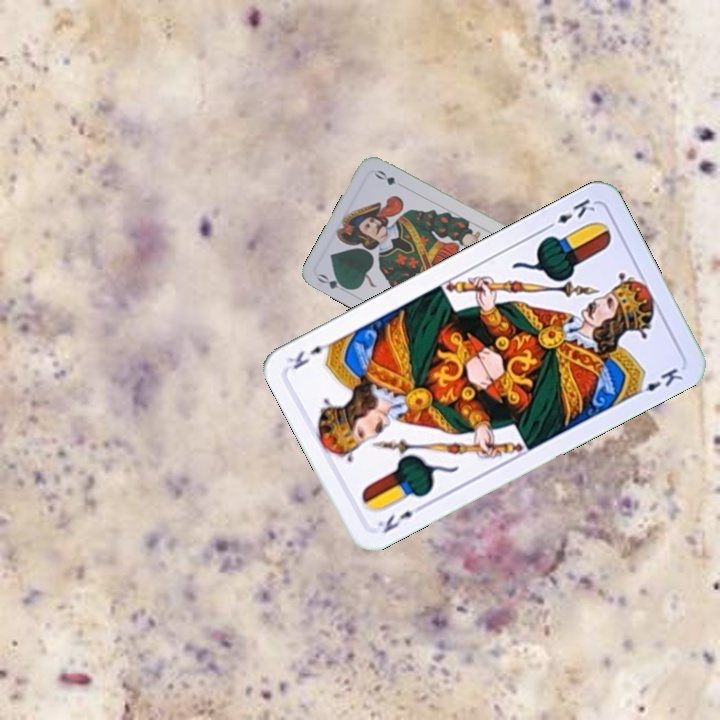EK: (541, 194, 598, 233), (374, 499, 427, 536)
GO: (313, 270, 353, 296)
